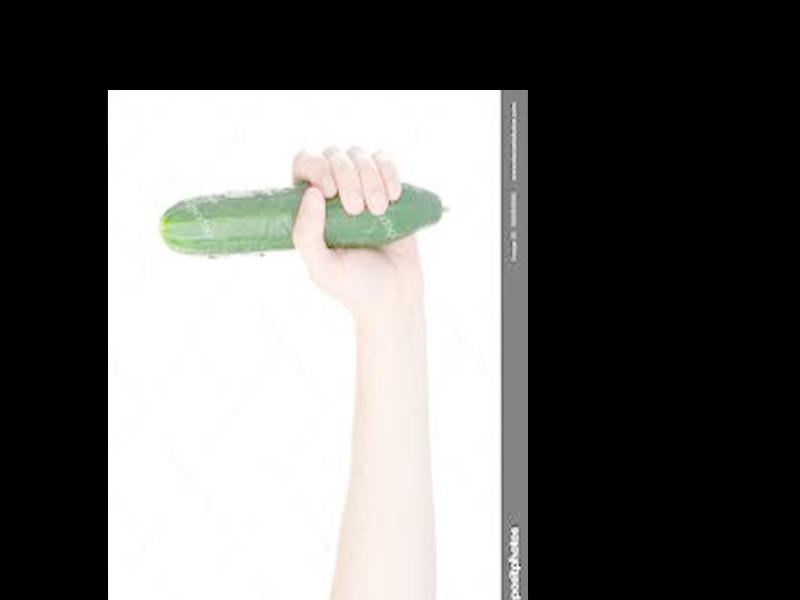Cucumber: (159, 182, 448, 256)
